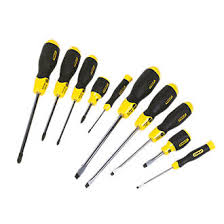Screwdriver: (12, 27, 223, 209)
